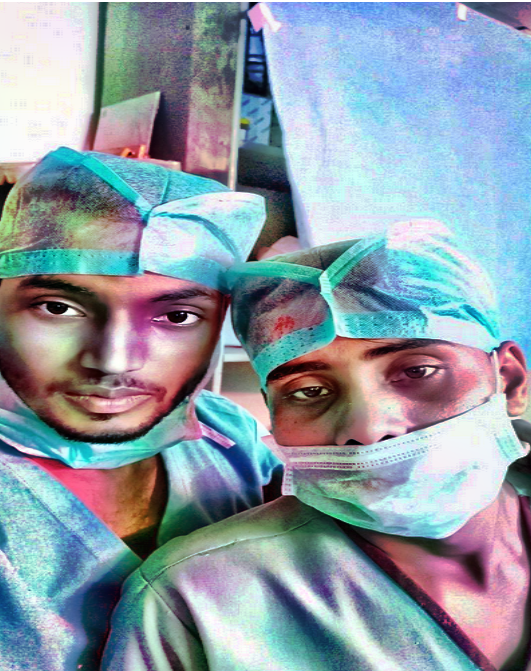mask_weared_incorrect: (227, 216, 516, 543), (1, 151, 259, 449)
